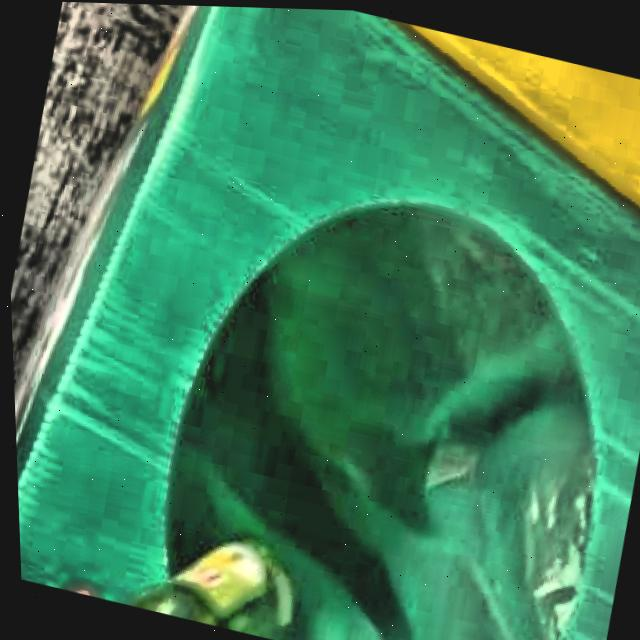glass: (126, 541, 284, 638)
